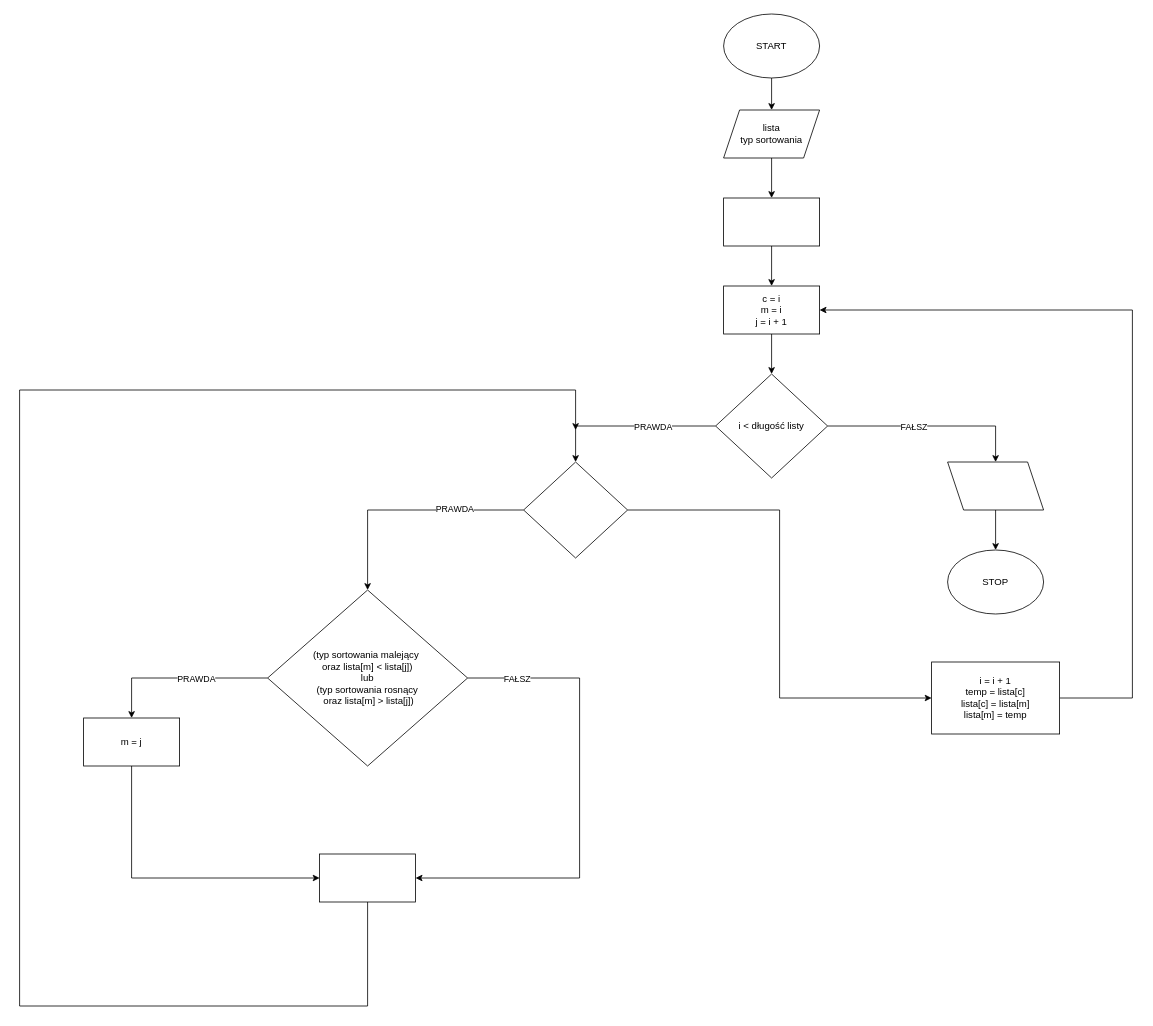
Image size: 1153x1026. Some labels were removed from this diagram. Here are the shapes that lost their labels. From the top down, the box of each, then its label:
(723, 197, 820, 246): i = 0
(947, 461, 1044, 510): lista
(523, 461, 628, 558): j < długość listy
(319, 853, 416, 902): j = j + 1
